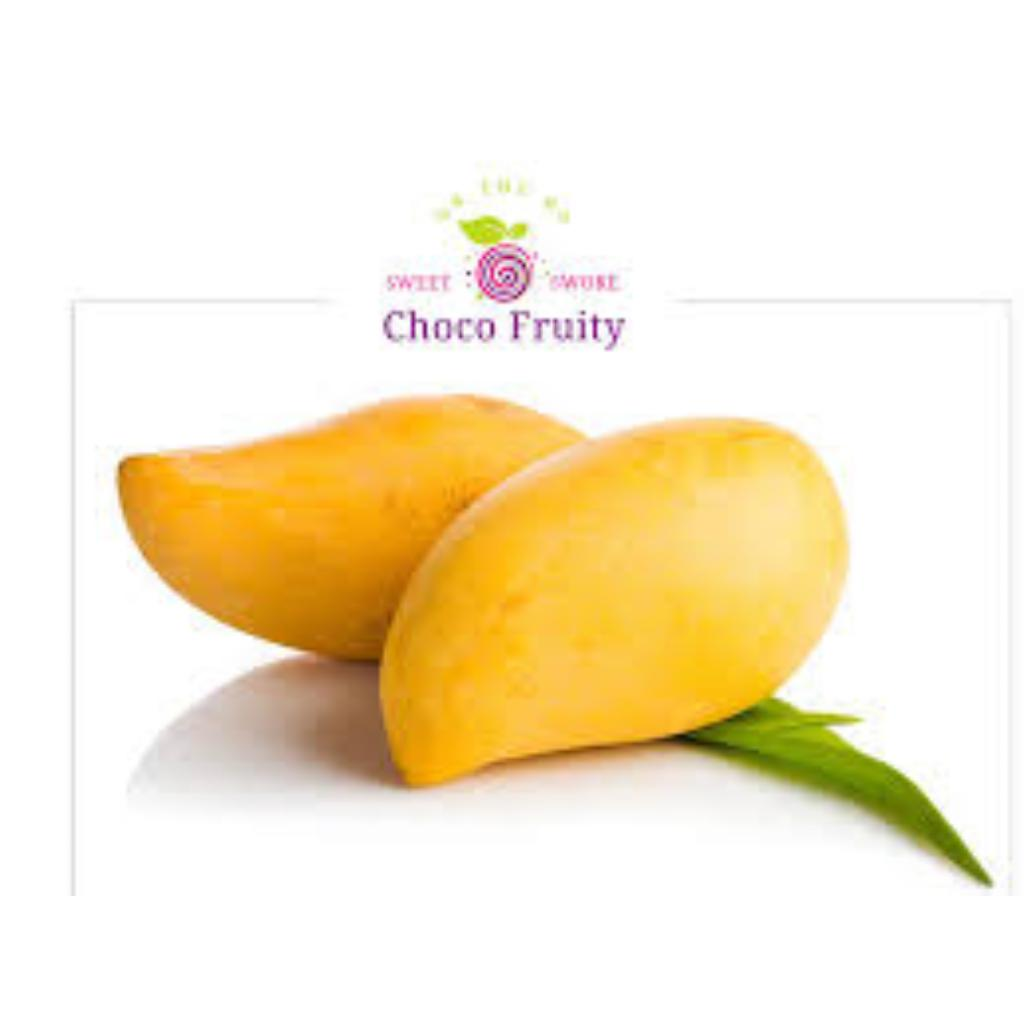mango: (376, 413, 854, 788), (116, 392, 592, 664)
